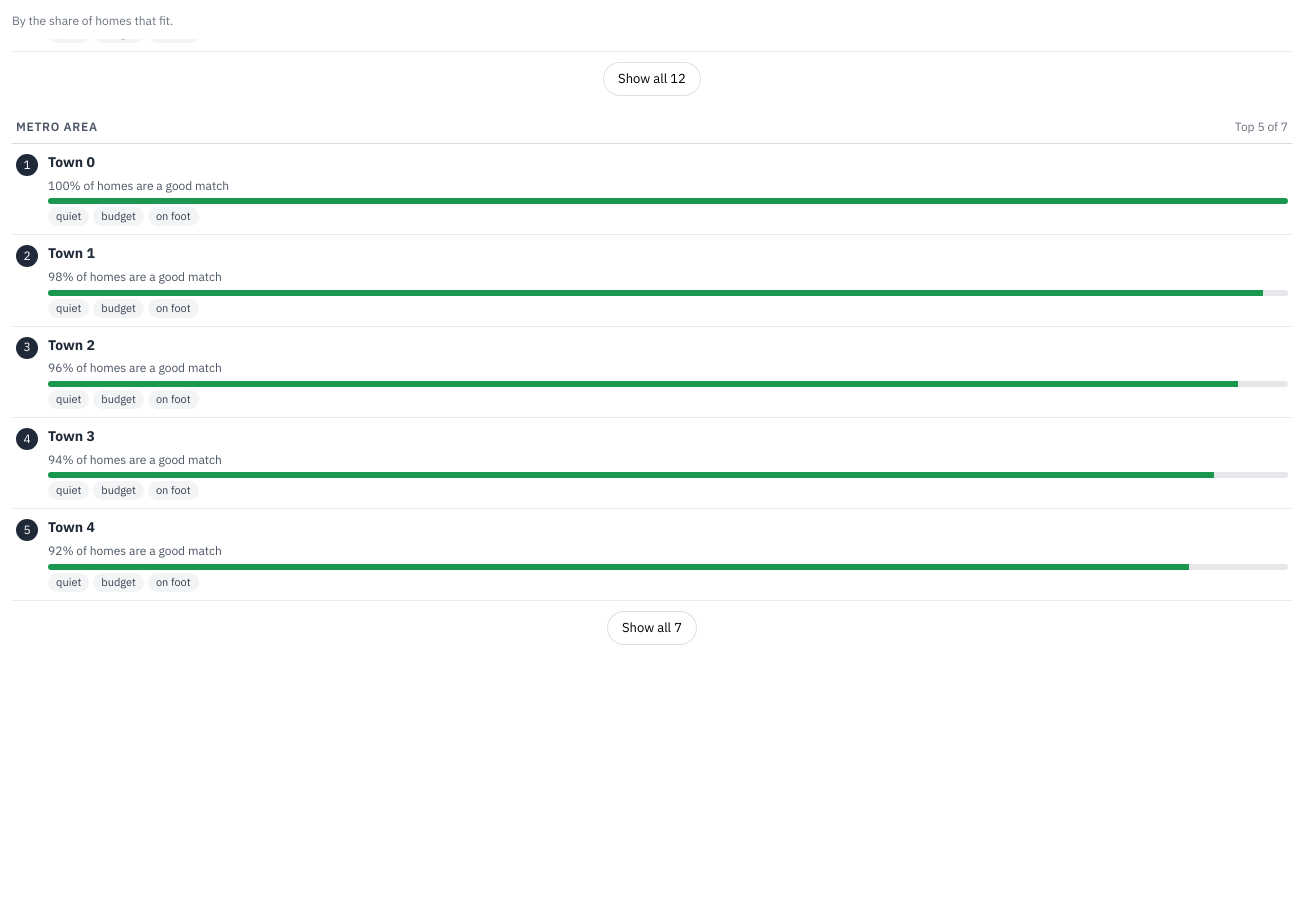
AreasList › each section has its own "Show all"
(page scrolled)
Click the button "Show all 7".
click(652, 628)  # box [607,611,697,645]
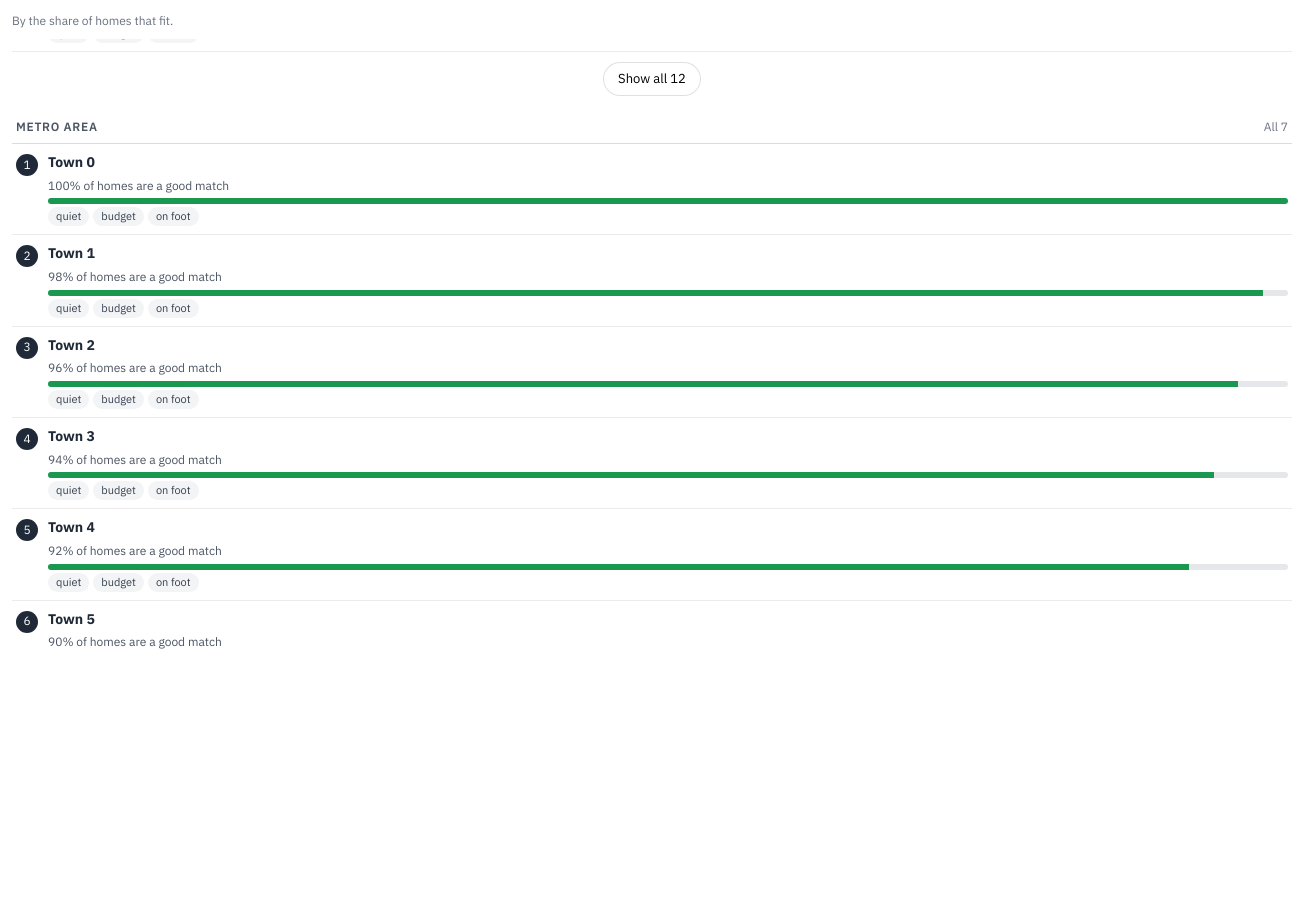
Result: the number of buttons "1 Town 0 100% of homes are a good match quiet budget on foot" is 7
Click the button "Show all 12".
click(652, 80)  # box [603,62,701,96]
(page scrolled)
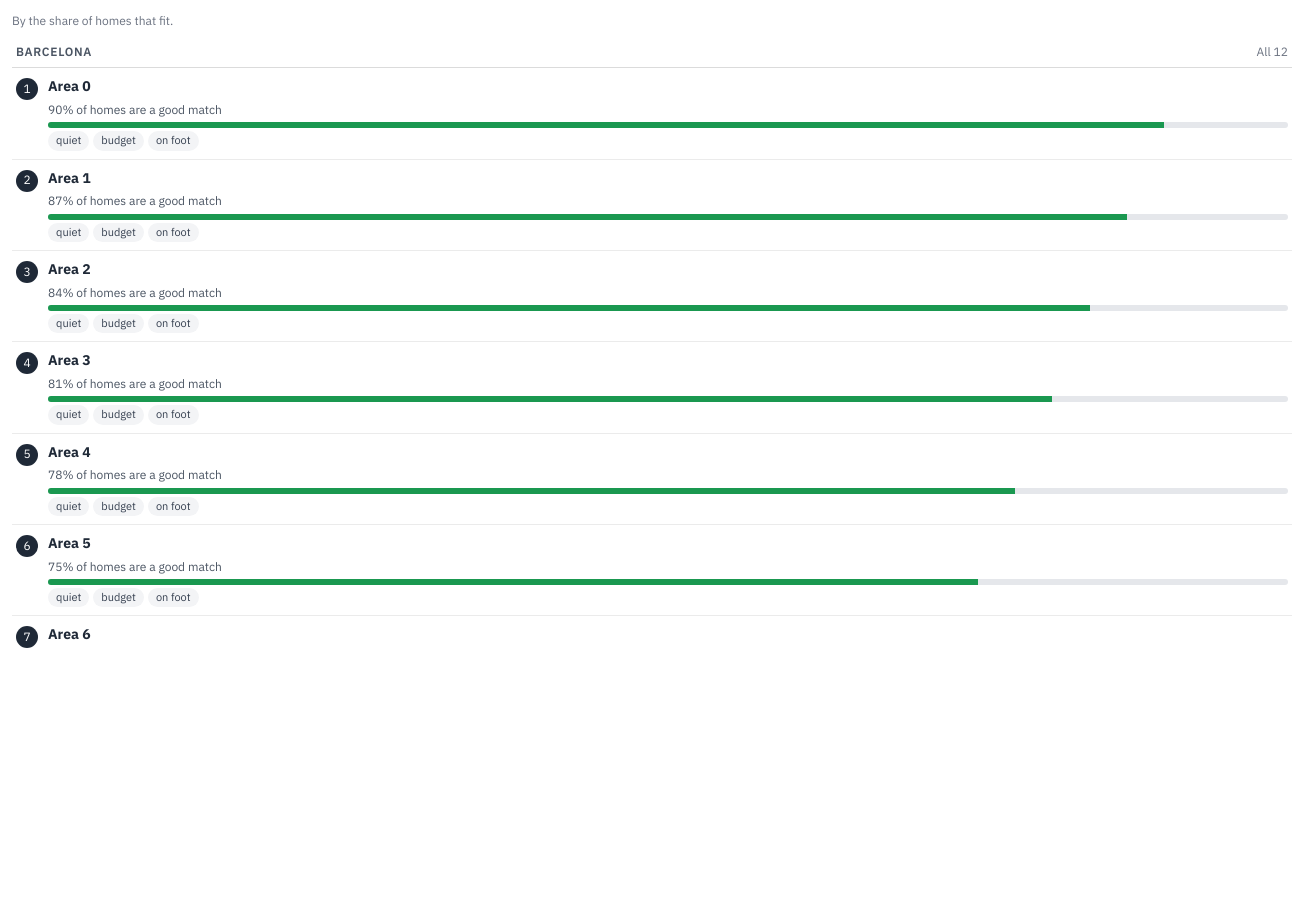
Result: the number of buttons "1 Area 0 90% of homes are a good match quiet budget on foot" is 12
Result: the text "All 12" is shown at [1257,43,1288,61]
